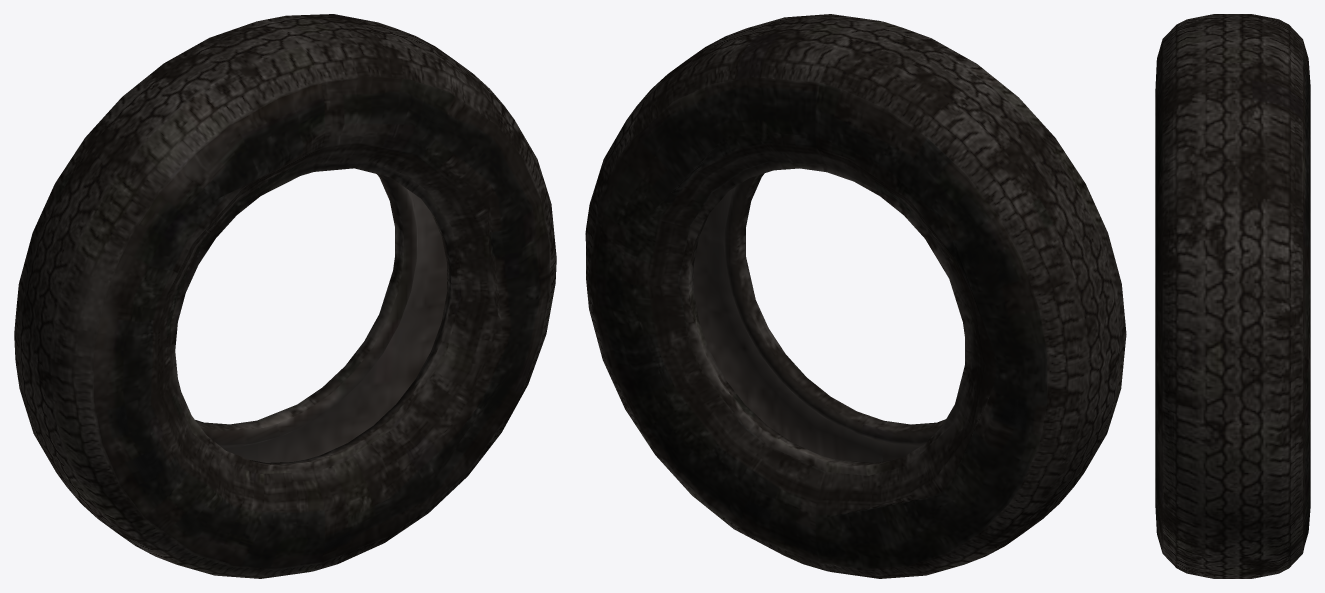
Rendered from old_tyre.glb.
3 views of the same model, side by side, from view 1: azimuth 30°, elevation 25°; view 2: azimuth 150°, elevation 25°; view 3: azimuth 270°, elevation 25° (orthographic). The views are drawn at different scales.
Parts seen in each view (by area): view 1: old_tyre; view 2: old_tyre; view 3: old_tyre.
Boxes of the visible parts, x1=… form: old_tyre: x1=14, y1=14, x2=556, y2=578; old_tyre: x1=585, y1=14, x2=1126, y2=578; old_tyre: x1=1155, y1=14, x2=1310, y2=578.
Size of the model in its own units: 0.6 by 0.6 by 0.165.
Materials: 1 (1 with a texture image).
